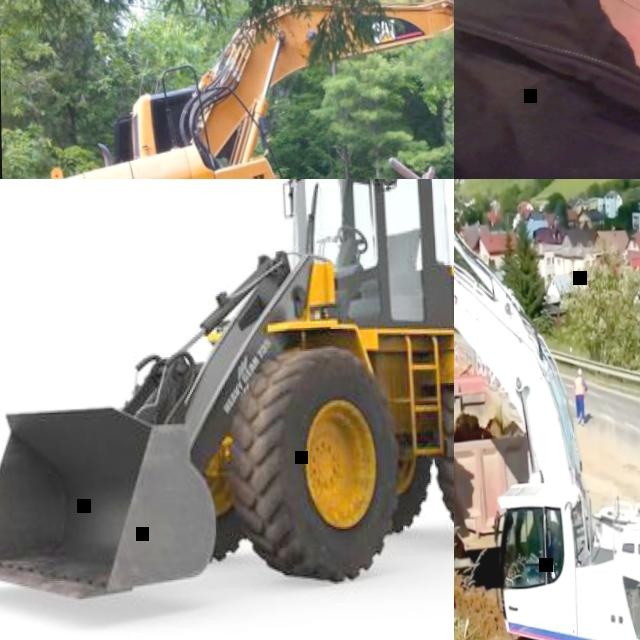Hardhat: (577, 369, 581, 375)
NO-Safety Vest: (454, 0, 640, 179)
Person: (454, 0, 640, 179), (523, 517, 554, 580), (572, 369, 588, 426)
Safety Vest: (573, 377, 583, 397)
machinery: (0, 179, 454, 613), (454, 179, 640, 640), (12, 0, 454, 179), (454, 370, 535, 588)
